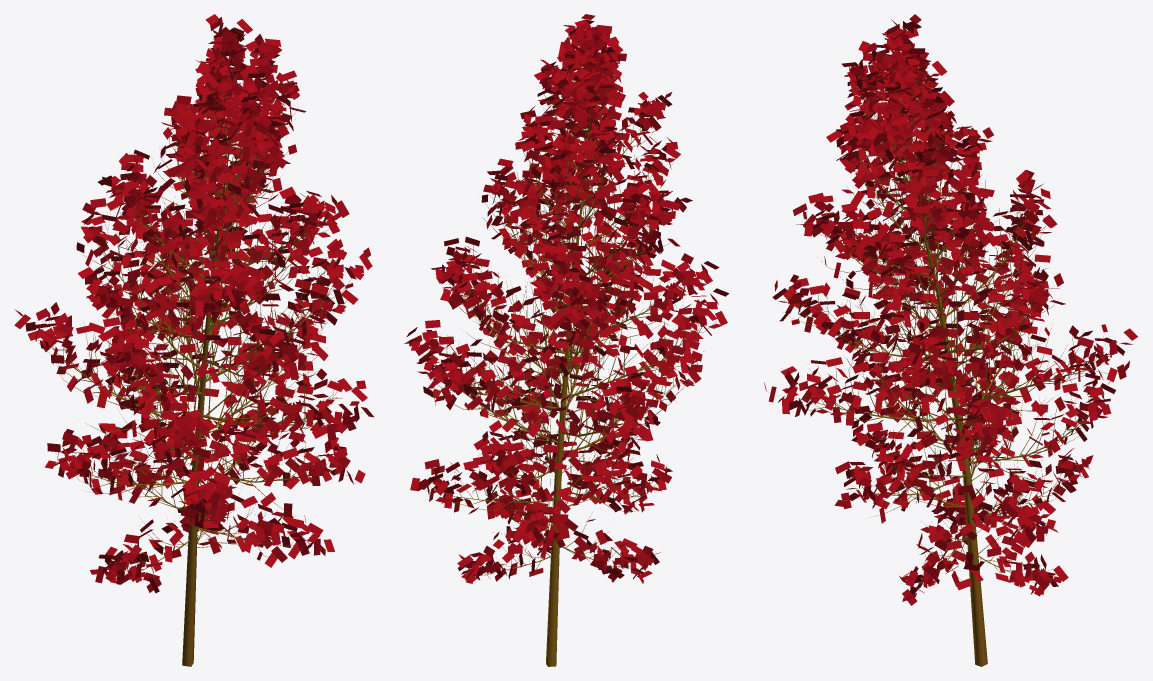
File: redtree.fbx
3 renders of one model, left to right at view 1: azimuth 30°, elevation 25°; view 2: azimuth 150°, elevation 25°; view 3: azimuth 270°, elevation 25°, orthographic. The views are drawn at different scales.
Visible parts, largest first — view 1: leaves, tree; view 2: leaves, tree; view 3: leaves, tree.
Boxes of the visible parts, x1,y1,x2,y2 form: leaves: (14, 14, 373, 593); tree: (37, 48, 368, 666); leaves: (404, 14, 728, 583); tree: (414, 41, 716, 666); leaves: (764, 14, 1137, 605); tree: (789, 66, 1122, 666).
Bounding box in the file's own units: 714 × 1541 × 825.
